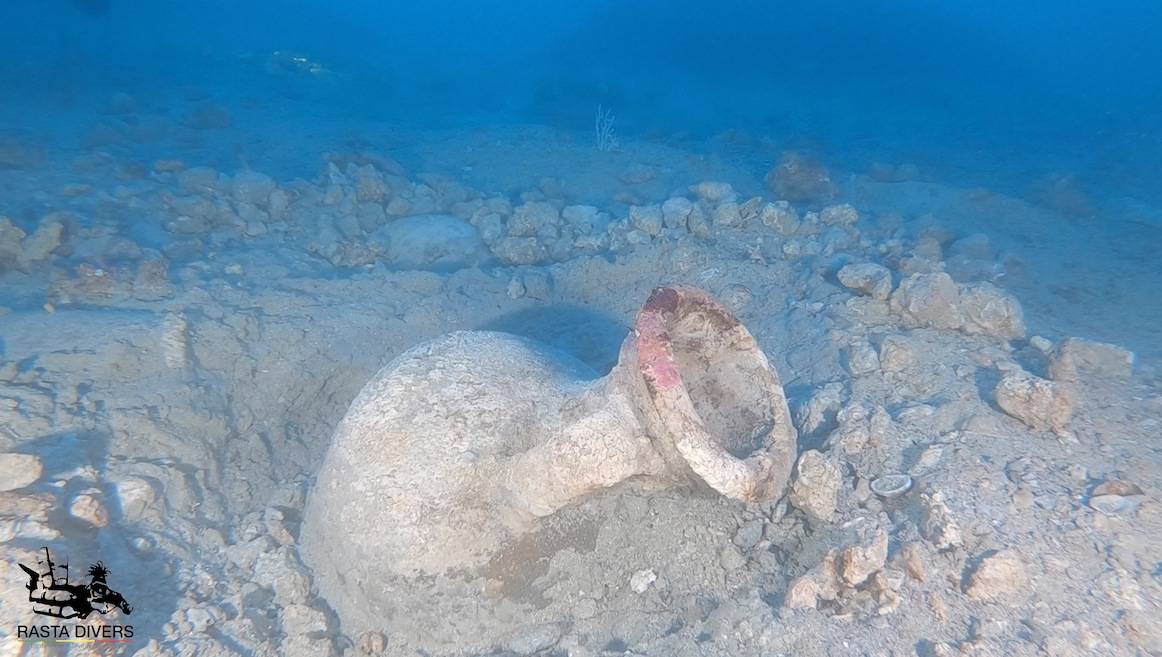amphora: (303, 283, 805, 614)
